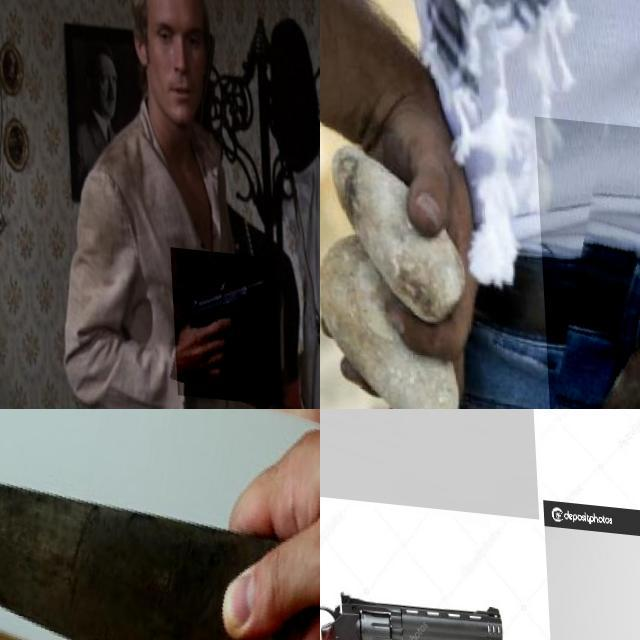-: (0, 409, 320, 640), (532, 111, 640, 409)
gun-knife-thesis - v11 Yolov5 augmented: (320, 409, 535, 578), (166, 238, 278, 394), (320, 578, 503, 640), (565, 409, 640, 501)
